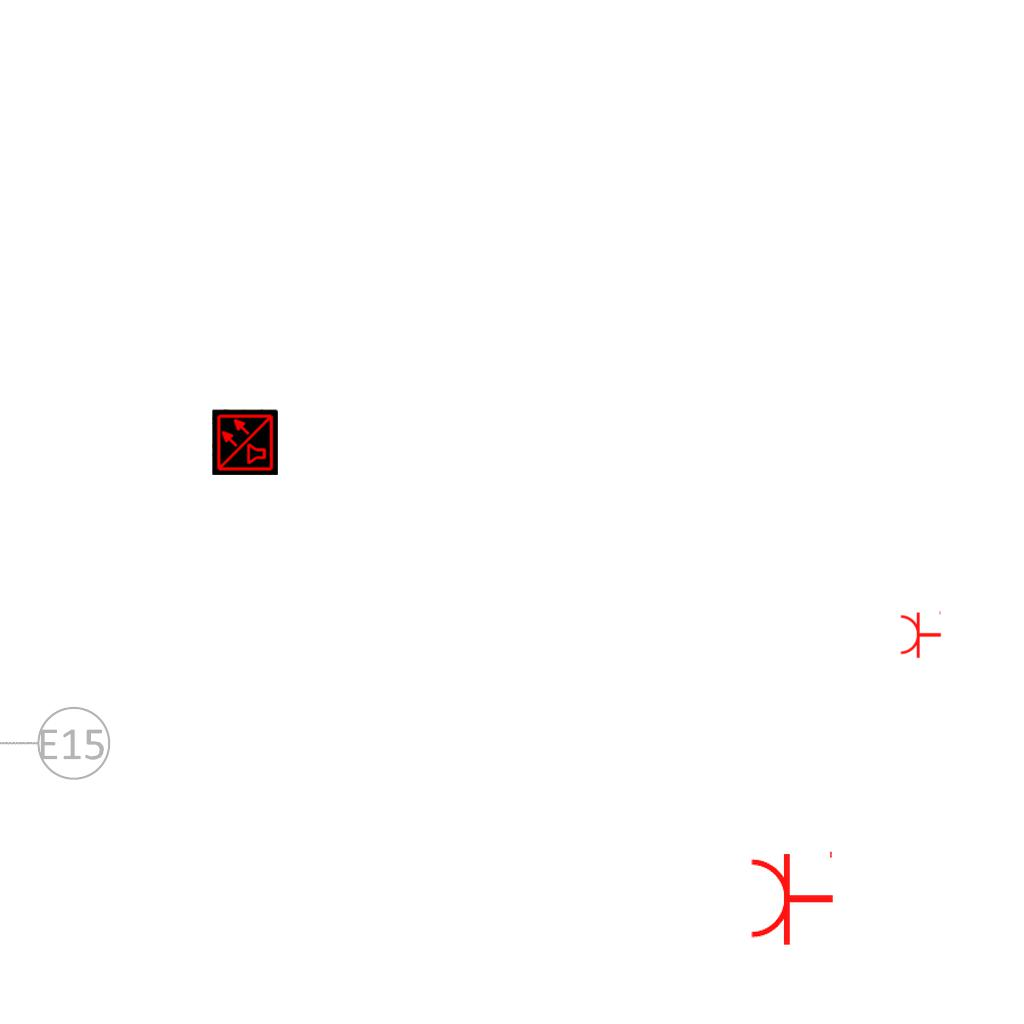OKW_Multisensormelder_(Kombination_optischer_Rauch-Kahlenmonoxid_Waerme-Melder): (212, 409, 278, 475)
Schukosteckdose_einfach: (748, 847, 835, 947), (899, 609, 942, 659)
